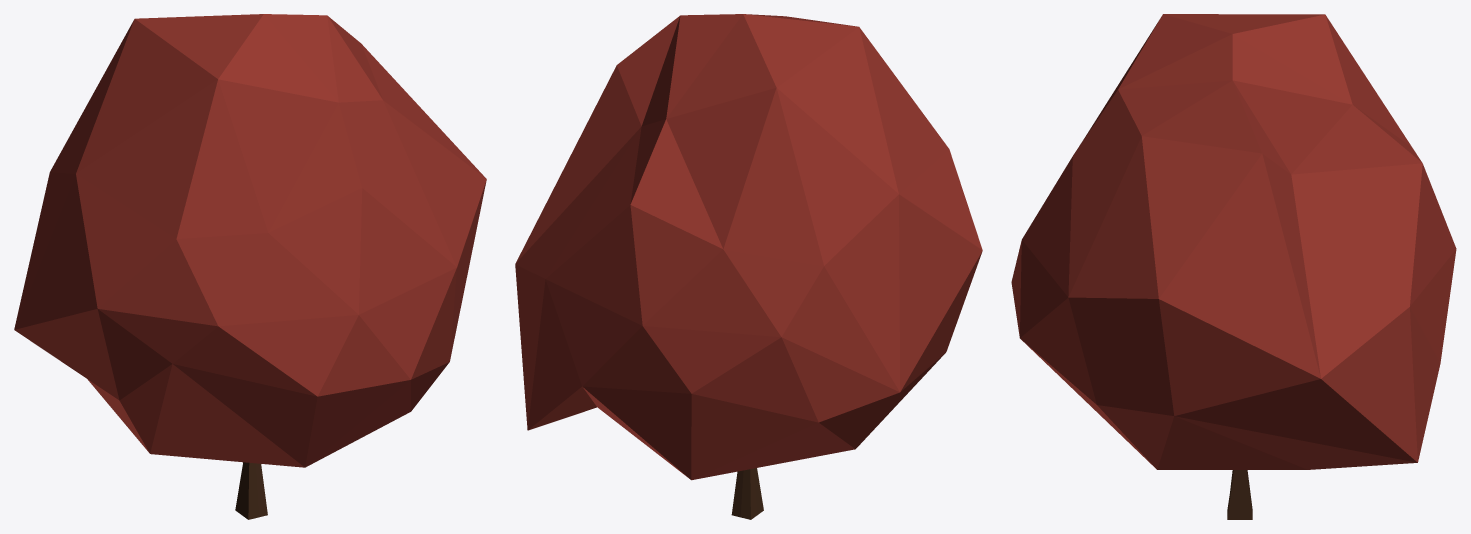
The model's file is Tree_17_Red.fbx.
The picture shows the model from 3 angles, left to right: view 1: azimuth 30°, elevation 25°; view 2: azimuth 150°, elevation 25°; view 3: azimuth 270°, elevation 25°; orthographic projection. The views are drawn at different scales.
Visible parts, largest first — view 1: Tree_17_Red_Part_1, Tree_17_Red_Part_2; view 2: Tree_17_Red_Part_1, Tree_17_Red_Part_2; view 3: Tree_17_Red_Part_1, Tree_17_Red_Part_2.
Part boxes in pixels (x1=…): Tree_17_Red_Part_1: x1=14, y1=14, x2=486, y2=467; Tree_17_Red_Part_2: x1=235, y1=462, x2=267, y2=519; Tree_17_Red_Part_1: x1=515, y1=14, x2=982, y2=480; Tree_17_Red_Part_2: x1=731, y1=468, x2=763, y2=519; Tree_17_Red_Part_1: x1=1011, y1=14, x2=1456, y2=469; Tree_17_Red_Part_2: x1=1227, y1=470, x2=1252, y2=519.
Bounding box in the file's own units: 639 × 784 × 651.
